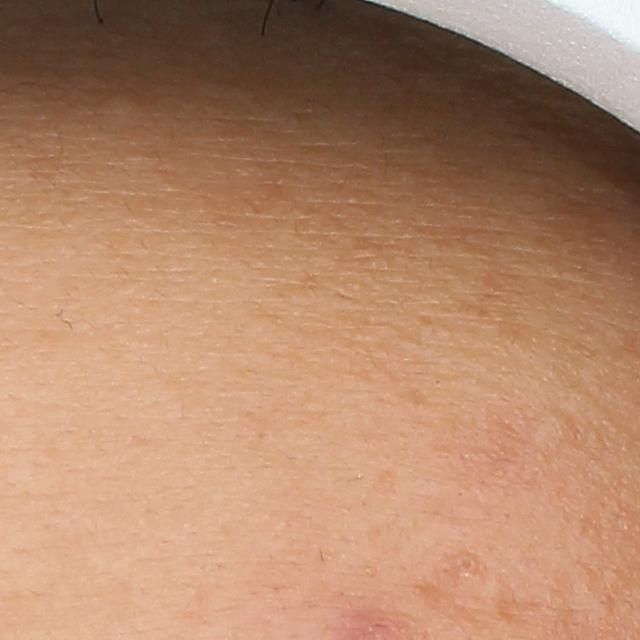comedo: (536, 408, 570, 443)
